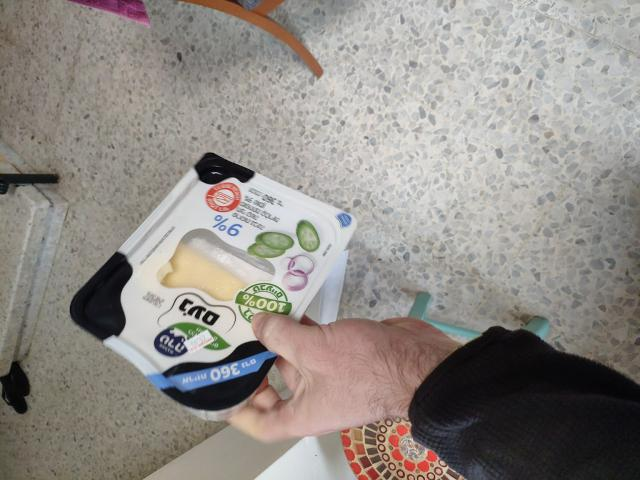cheese: (74, 126, 334, 424)
